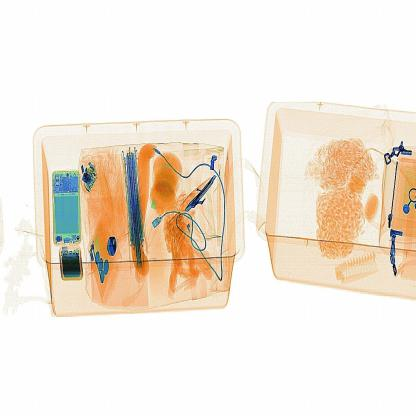pliers: (182, 169, 226, 218)
